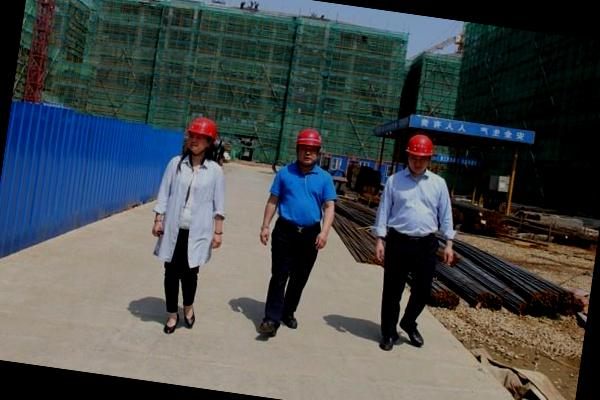helmet: (401, 130, 442, 162), (183, 112, 224, 144), (290, 125, 327, 152)
no_vest: (370, 164, 456, 264), (149, 151, 232, 251), (260, 158, 343, 244)
person: (354, 127, 467, 358), (136, 110, 240, 336), (245, 120, 348, 346)
